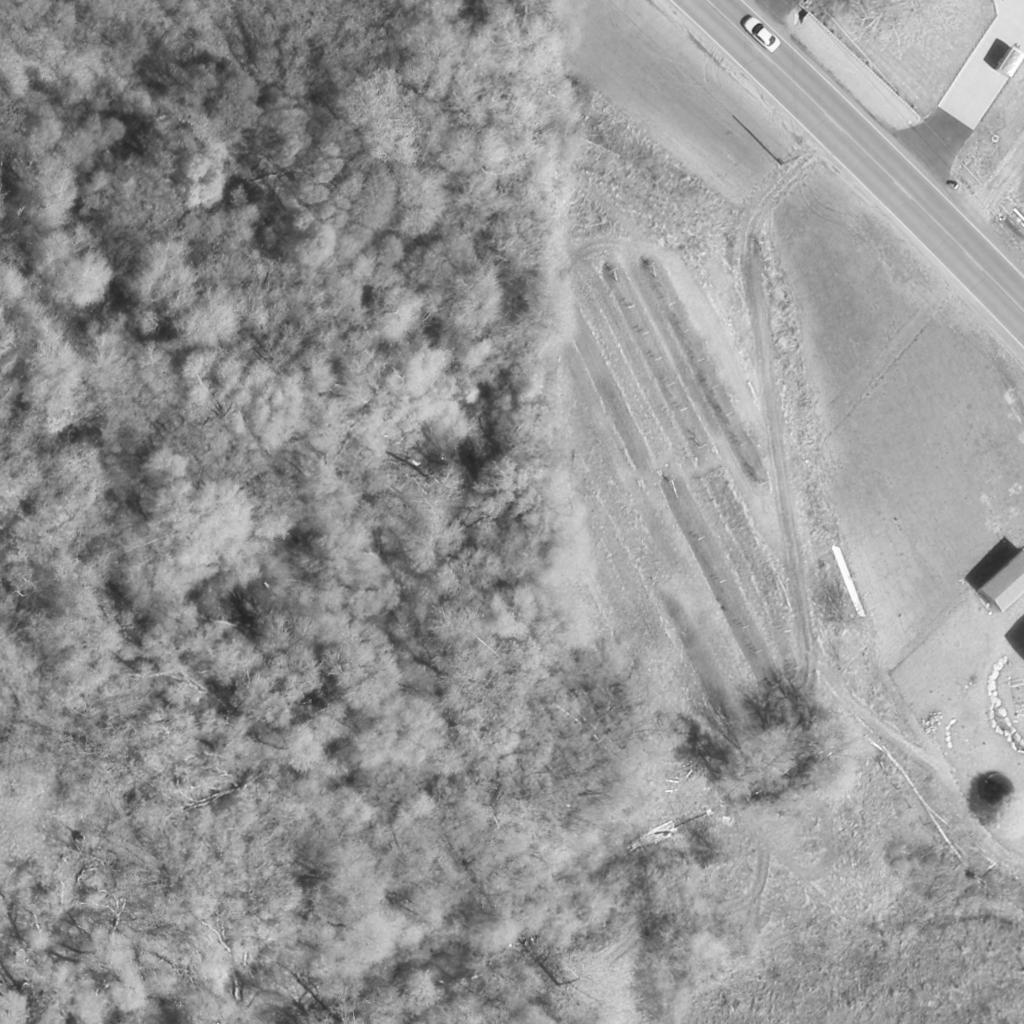vehicle: (739, 16, 783, 56)
